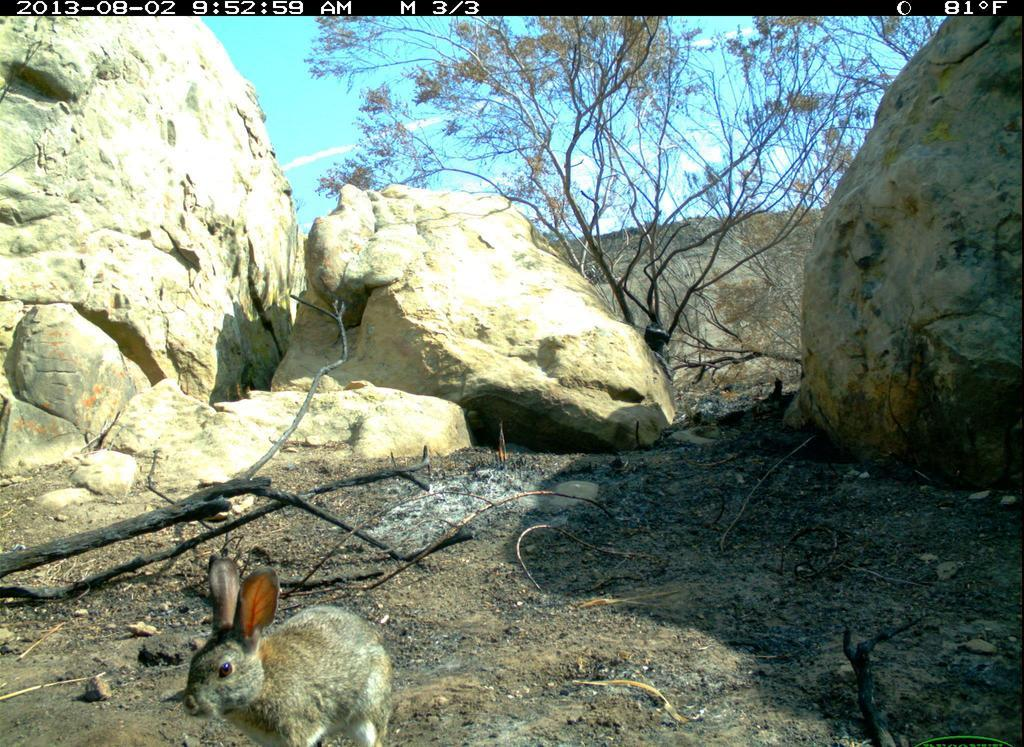rabbit: (177, 551, 404, 747)
